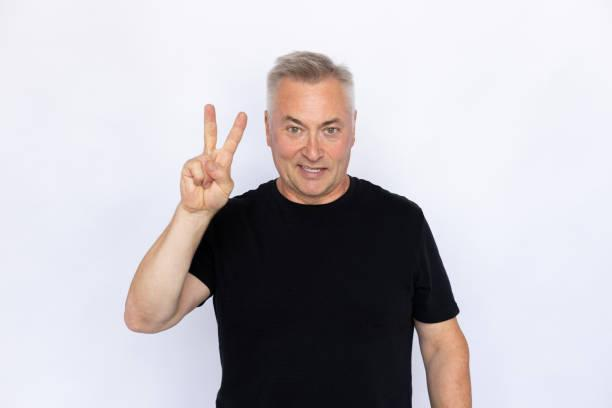peace_sign: (175, 98, 254, 217)
